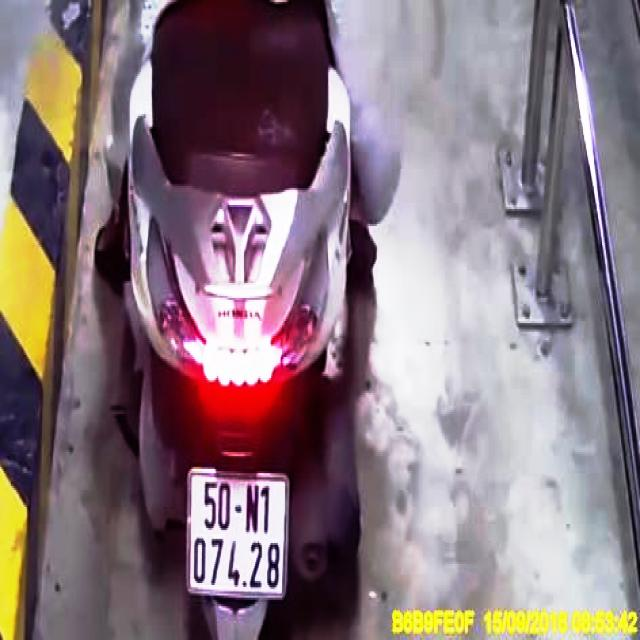license_plate: (188, 473, 290, 602)
